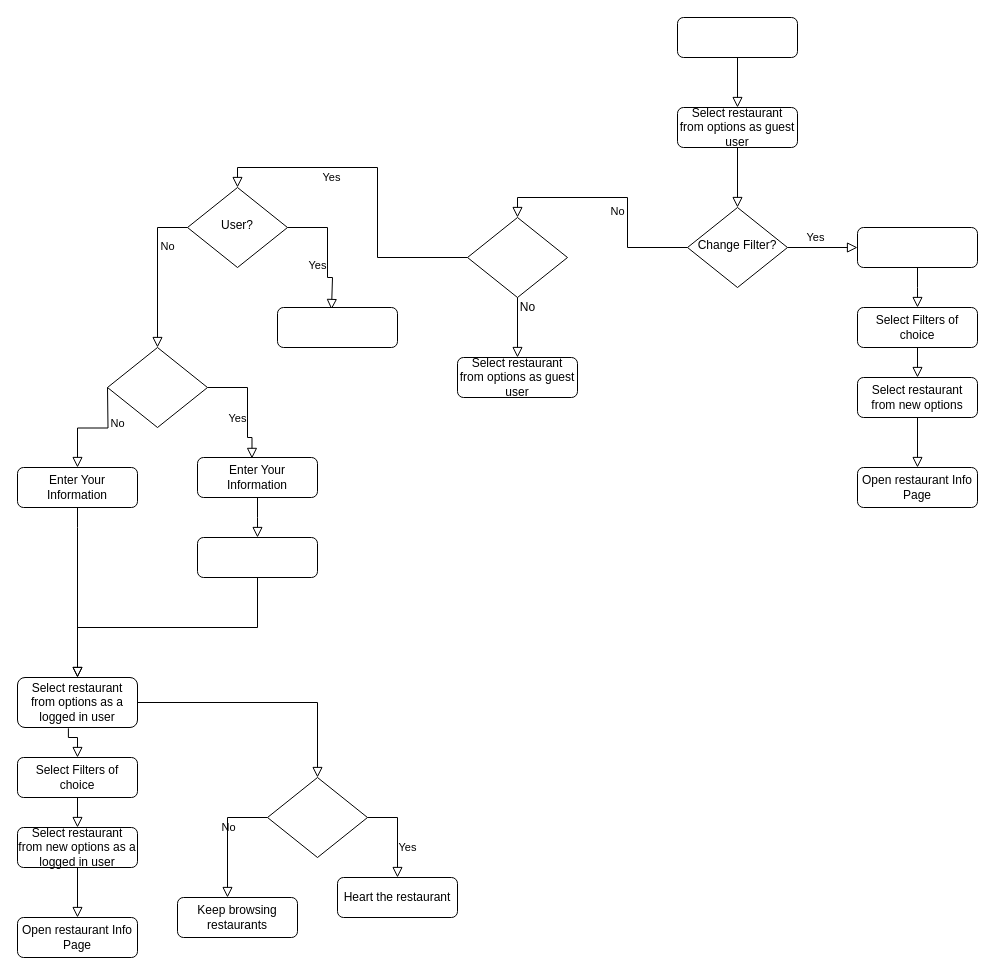
The diagram is 995 pixels wide and 975 high, and some of its shapes have lost their labels. Each missing label, with the centre of its shape:
Enter Restaurant information: point 257,557
Enter your login information: point 337,327
Liked the restaurant?: point 317,817
Login?: point 517,257
Open the application: point 737,37
Quick Search Page: point 917,247
Restaurant Owner?: point 157,387
